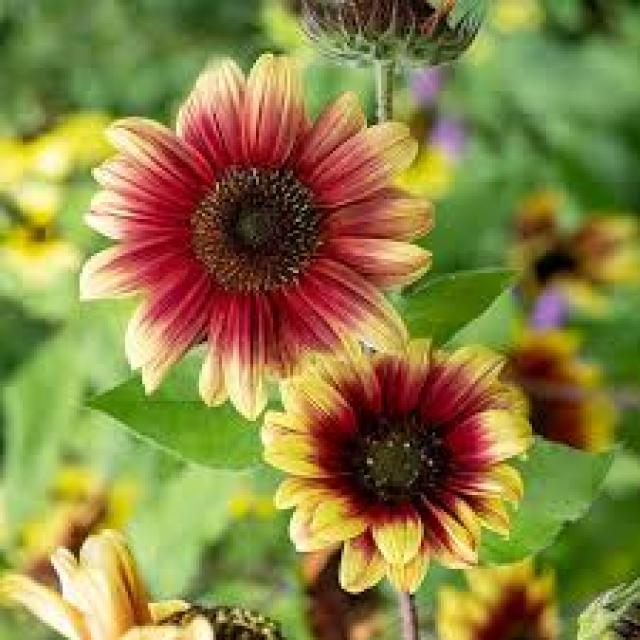sunflower: (74, 44, 441, 423), (253, 333, 542, 602), (0, 513, 226, 640), (504, 198, 640, 330), (488, 324, 608, 460), (434, 554, 561, 640)
